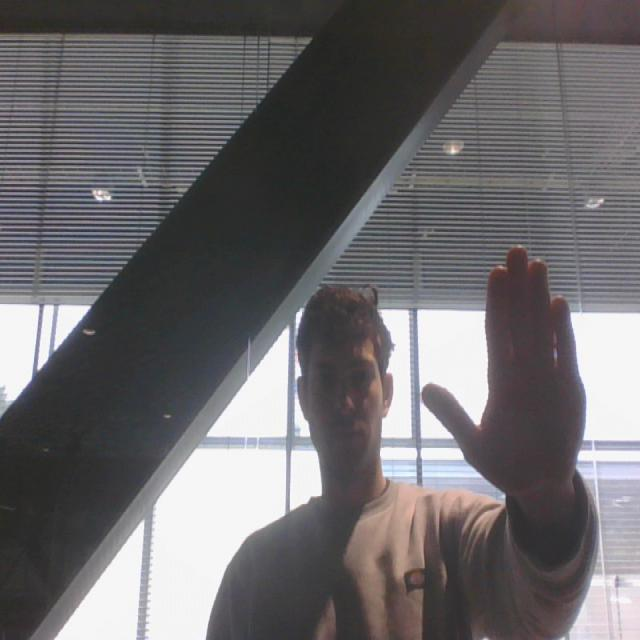backward: (416, 233, 596, 506)
